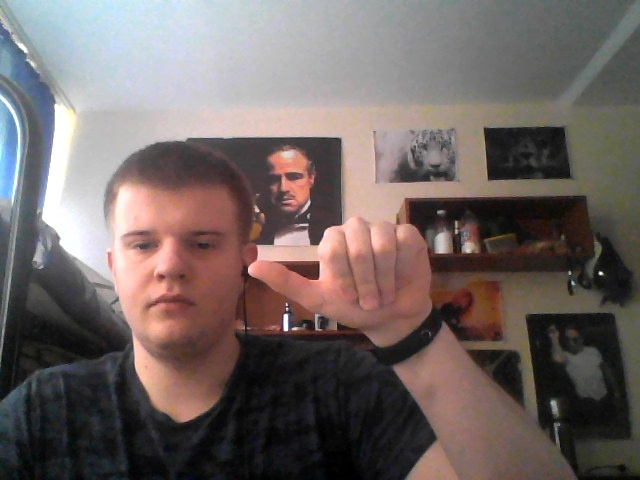bye: (243, 213, 431, 328)
